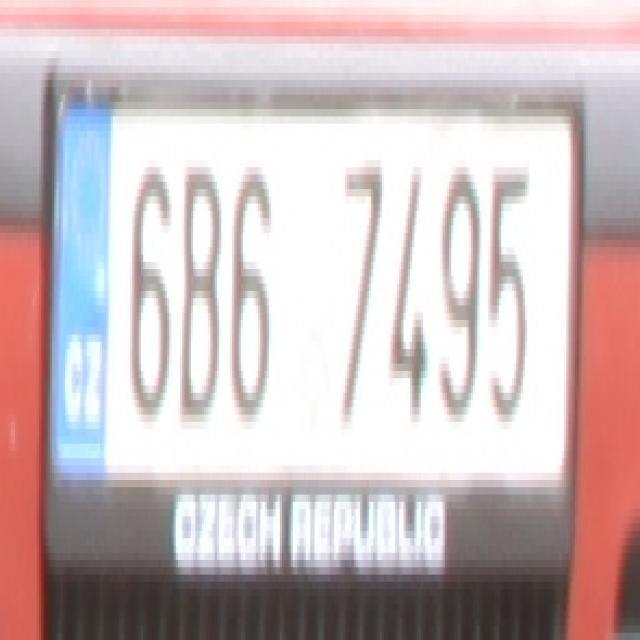4: (386, 153, 429, 414)
5: (484, 153, 530, 422)
6: (126, 160, 170, 415), (228, 153, 269, 414)
7: (338, 153, 384, 422)
9: (436, 153, 482, 422)
B: (174, 153, 219, 422)
